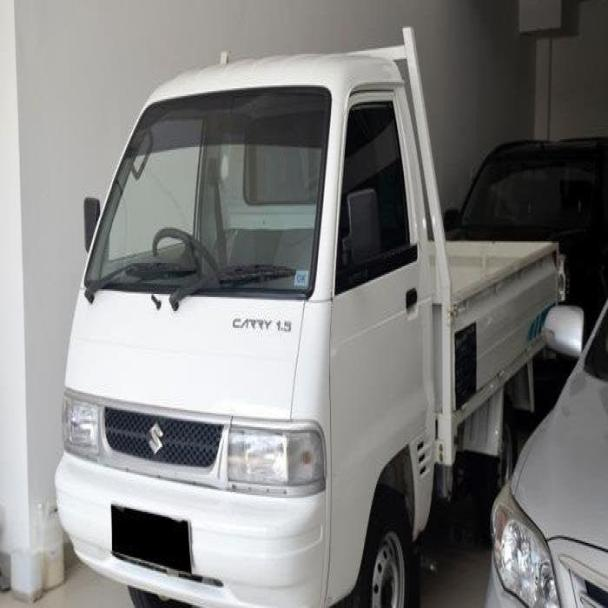Mobil: (57, 54, 478, 608)
